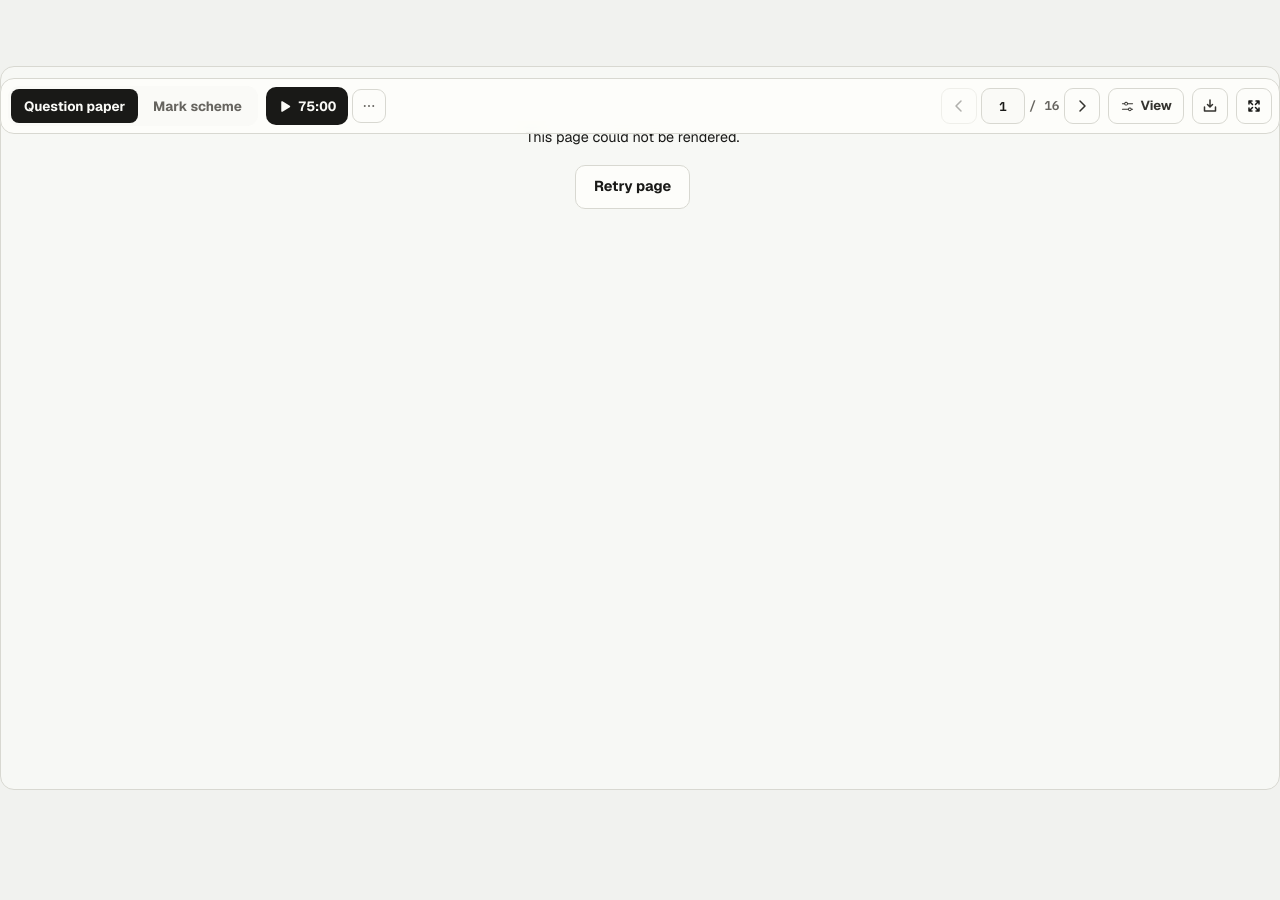
Test: PastPaperReader › retries a page render failure without reloading the document
What coordinates should you click on to do the following:
click the button "Retry page"
I would click on:
 (633, 187)
Its box is [575, 165, 690, 209].
(page scrolled)
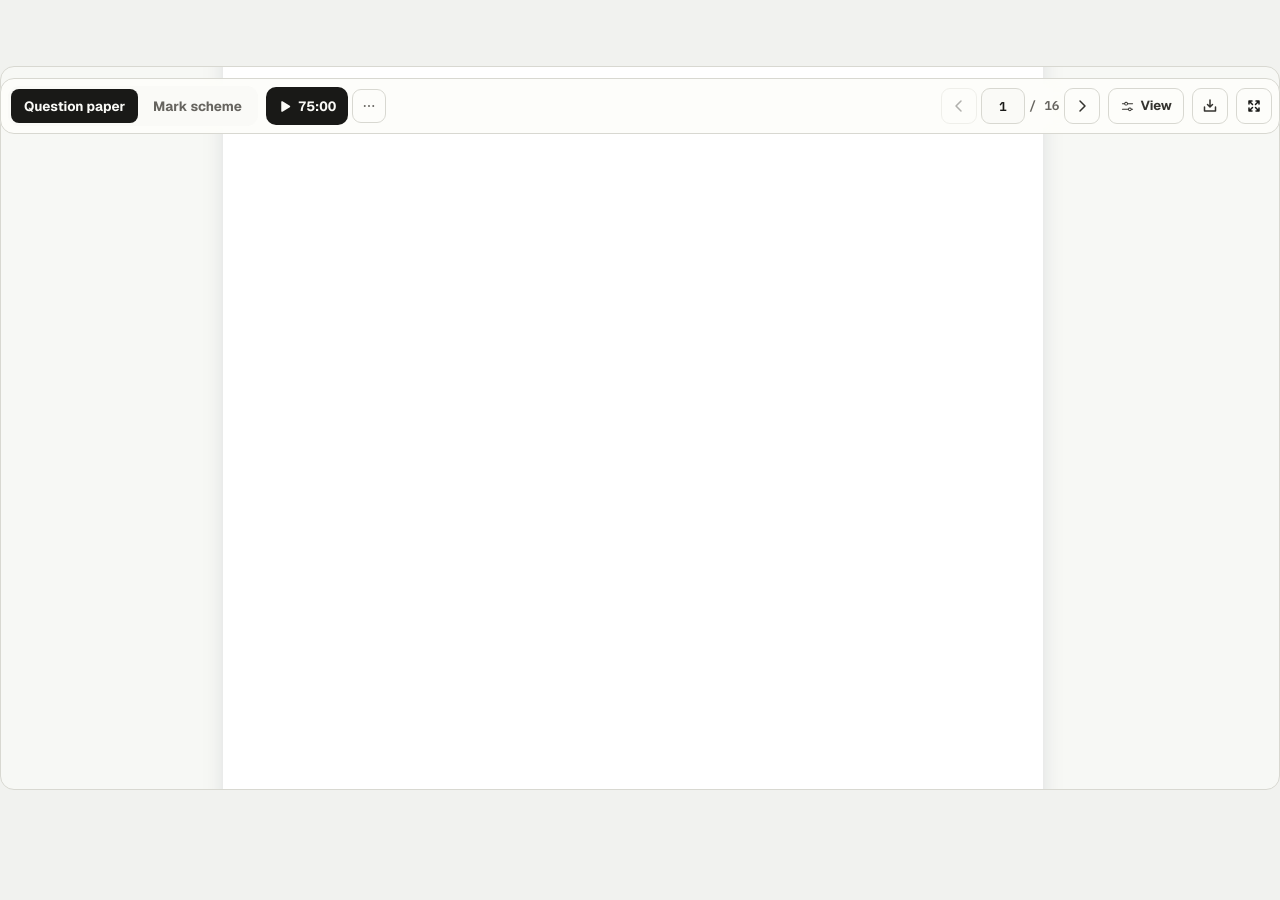
expect the picture named "Question paper, page 1" is shown: met, box [222, 66, 1042, 790]
